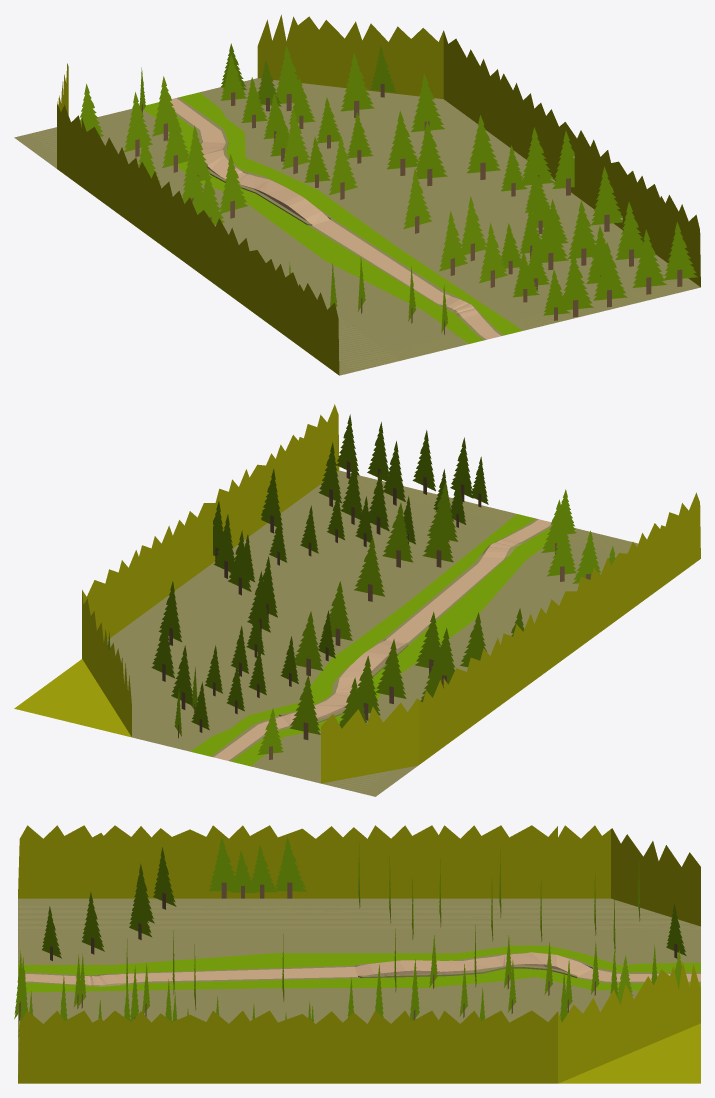
The model's file is forest03.glb.
The picture shows the model from 3 angles, top to bottom: view 1: azimuth 30°, elevation 25°; view 2: azimuth 150°, elevation 25°; view 3: azimuth 270°, elevation 25°; orthographic projection. The views are drawn at different scales.
Visible parts, largest first — view 1: Geom3D (×5); view 2: Geom3D (×5); view 3: Geom3D (×5).
Part boxes in pixels (x1=…): Geom3D (×5): x1=14, y1=14, x2=700, y2=375; Geom3D (×5): x1=14, y1=404, x2=700, y2=796; Geom3D (×5): x1=14, y1=825, x2=700, y2=1083.
Bounding box in the file's own units: 1918707 × 363975 × 3003595.
8 materials, 4 textured.
